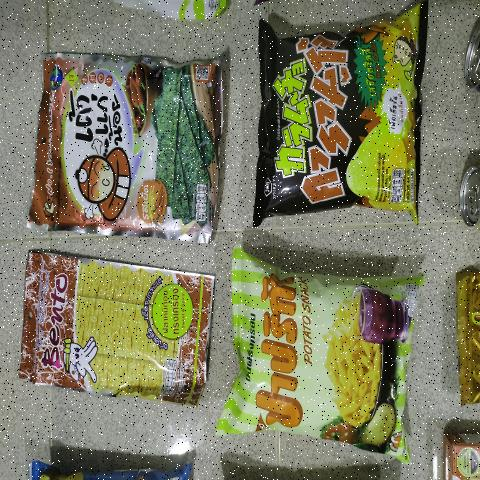bento_red: (23, 252, 206, 403)
karamujo: (258, 17, 419, 216)
paprika: (228, 266, 406, 448)
taokaenoi: (39, 56, 221, 238)
